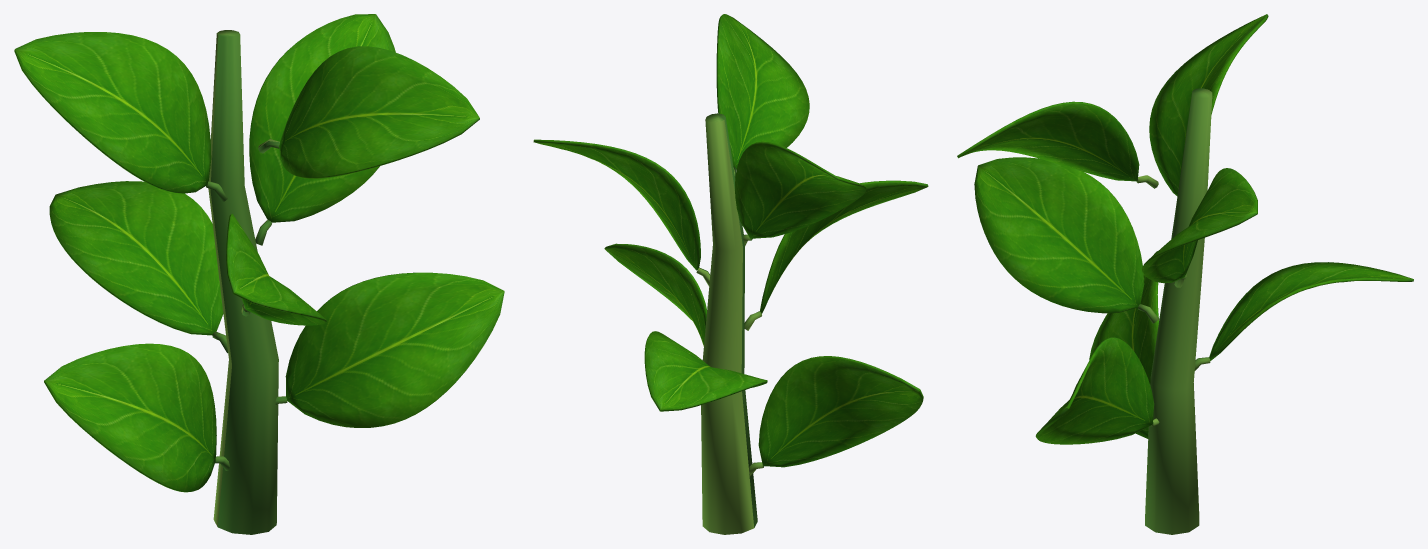
Rendered from NP_Jasmine_Young.fbx.
3 renders of one model, left to right at view 1: azimuth 30°, elevation 25°; view 2: azimuth 150°, elevation 25°; view 3: azimuth 270°, elevation 25°, orthographic. The views are drawn at different scales.
Parts seen in each view (by area): view 1: NP_Jasmine_Young; view 2: NP_Jasmine_Young; view 3: NP_Jasmine_Young.
Boxes of the visible parts, x1,y1,x2,y2 form: NP_Jasmine_Young: (14,14,504,534); NP_Jasmine_Young: (533,14,928,534); NP_Jasmine_Young: (957,14,1413,534).
Size of the model in its own units: 28.3 by 33.16 by 30.37.
